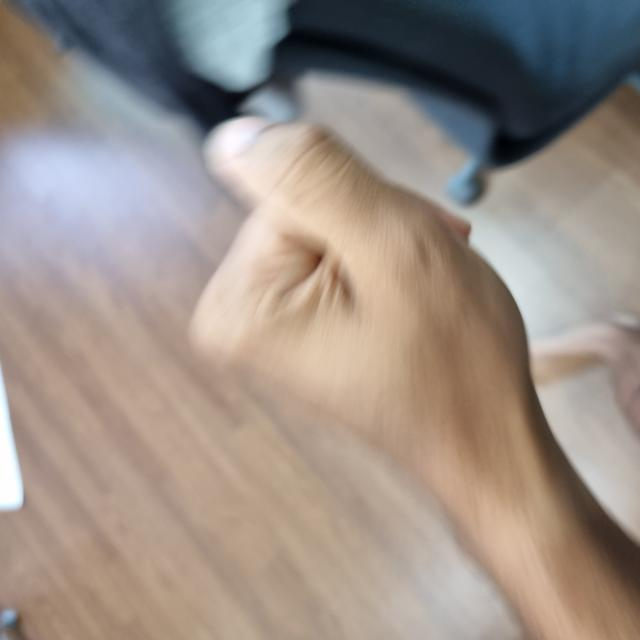Rock: (175, 199, 510, 638)
